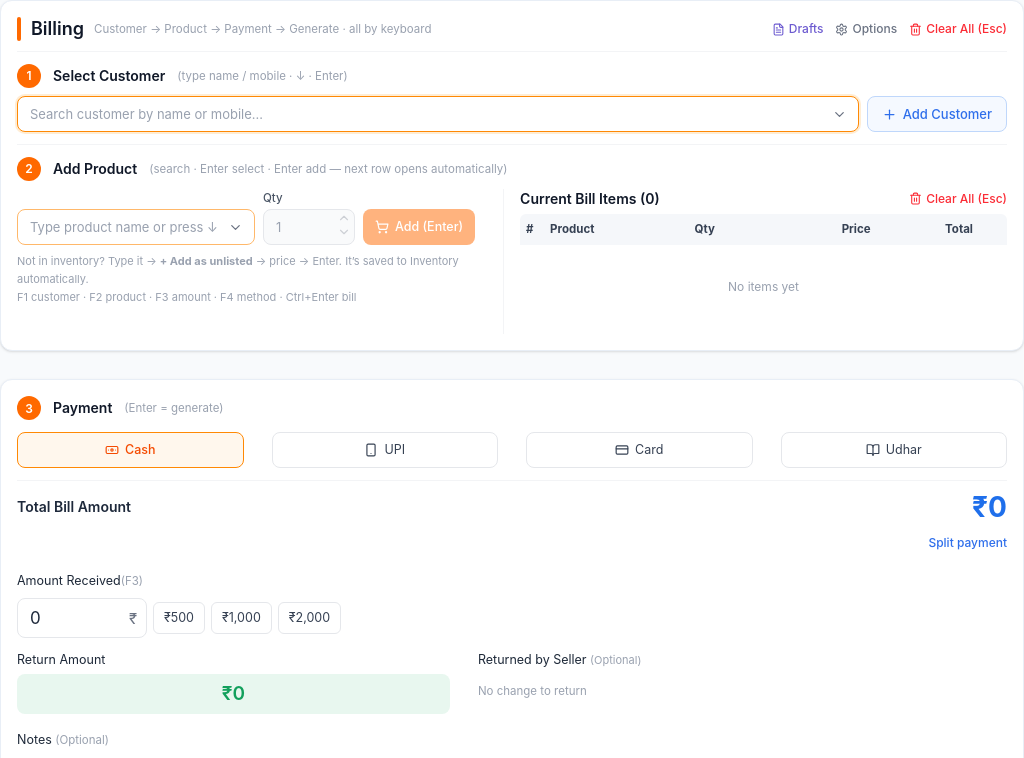
Scenario: product search stays editable after a selection › 2 · the field can be edited immediately after: not read-only, edit starts a fresh search with suggestions, selection is dropped
The width and height of the screenshot is (1024, 758).
In the field labelled "product": (136, 227) top-left (17, 209), bottom-right (255, 245), type "Sug"
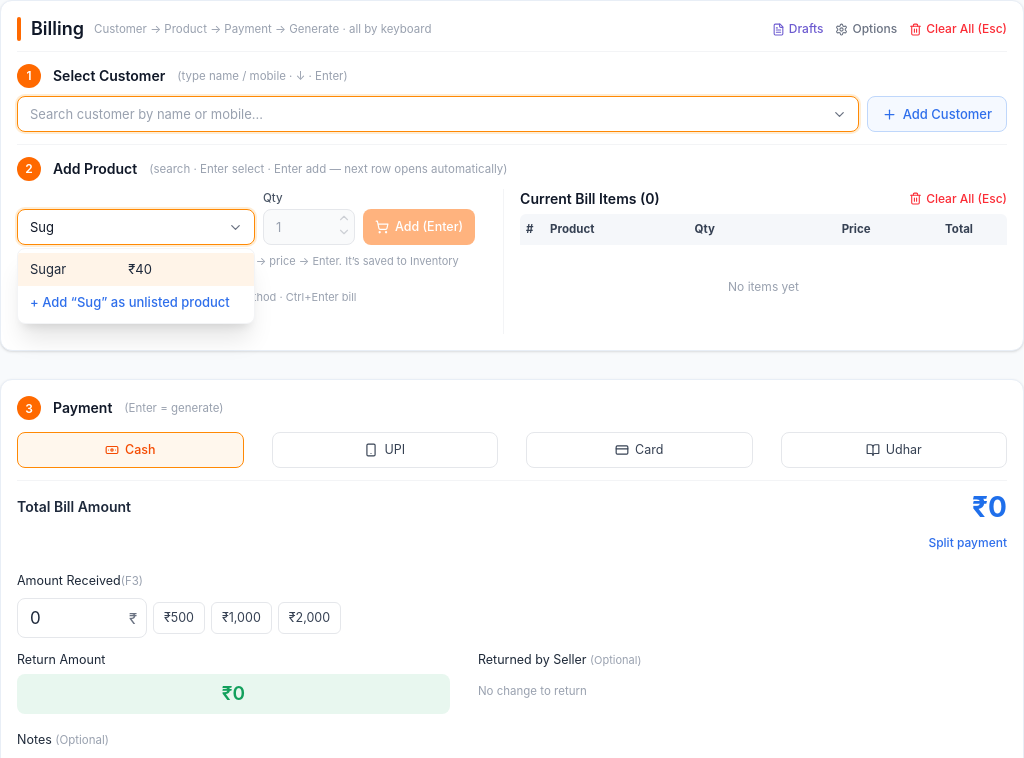
Press Enter in the field named "product", box top-left (17, 209), bottom-right (255, 245)
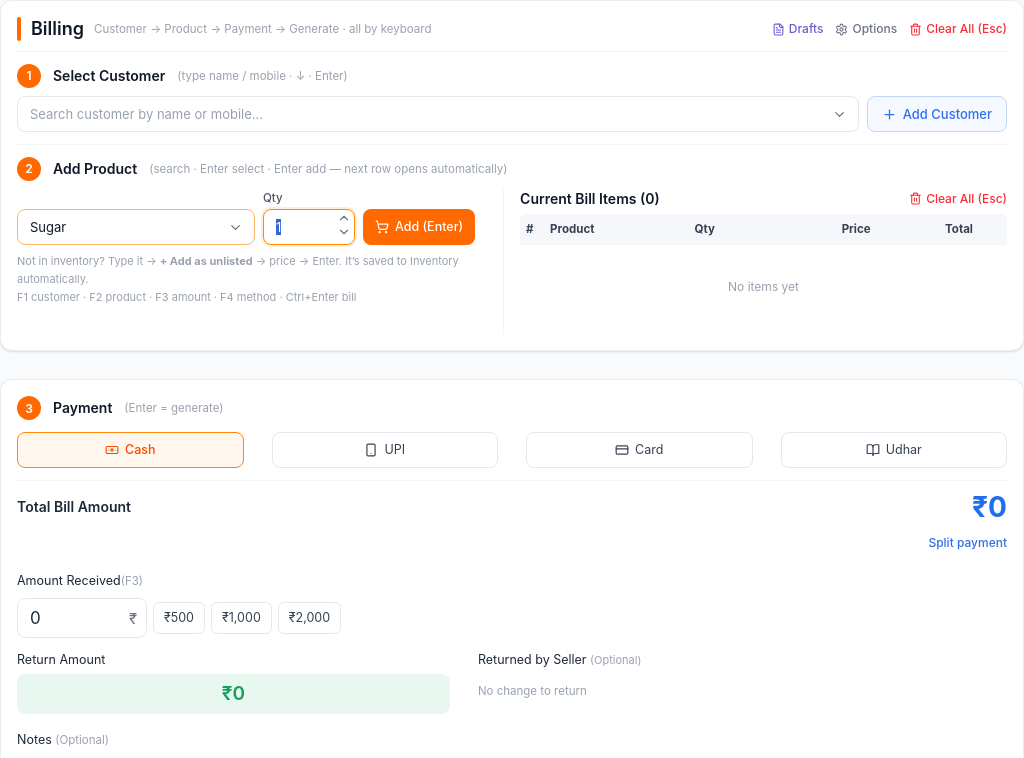
Replace the text in the field named "product" with "Sa": (136, 227) top-left (17, 209), bottom-right (255, 245)
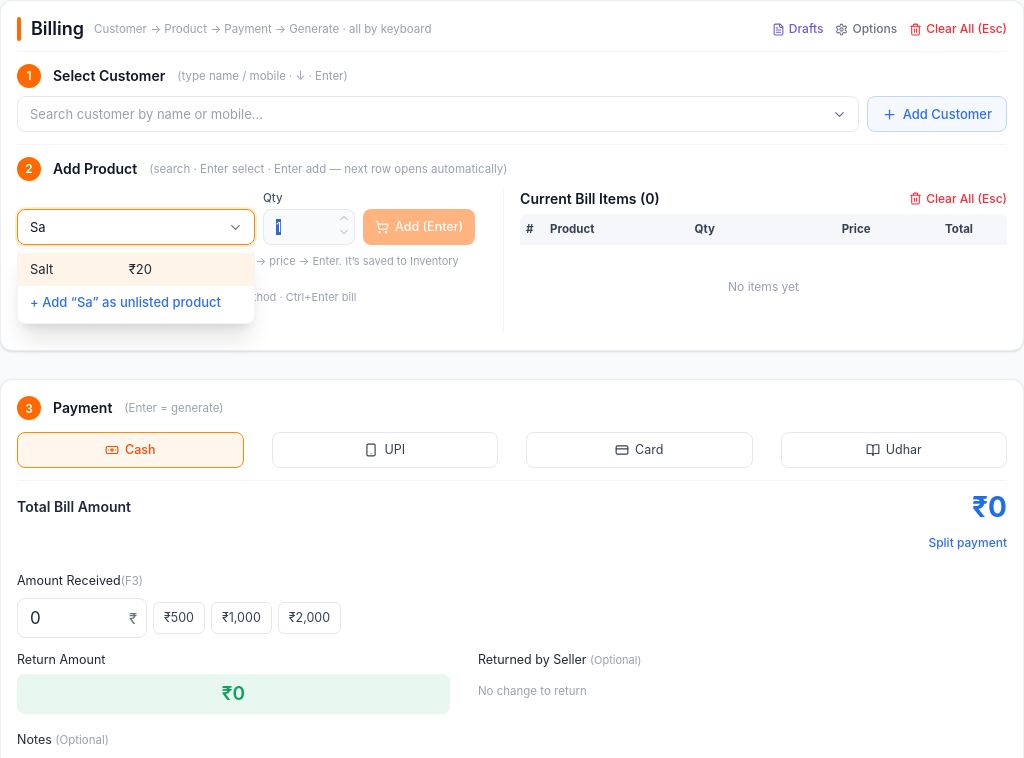
Result: the field named "Quantity" is disabled at top-left (263, 209), bottom-right (355, 245)
